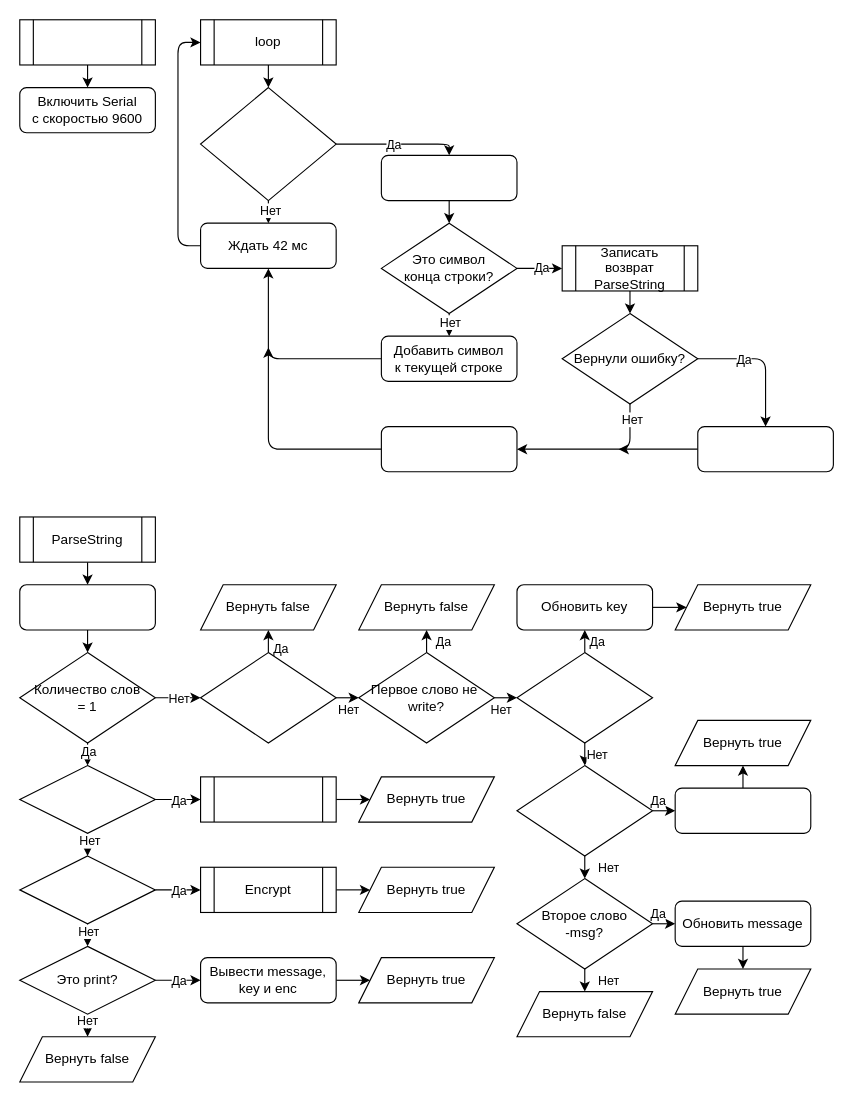
This 853x1102 diagram has some shape labels left out. The shapes that lost their labels are listed below. From the top down, each one's centre as x and y in pixels, then its label:
point 87,42: Setup
point 267,143: Если компьютер что-либо передал
point 448,177: Прочитать символ
point 448,448: Обнулить строку
point 765,448: Вернуть в serial строку и ошибку
point 87,607: Разбить строку на слова
point 267,697: Количество слов не 3?
point 584,697: Второе слово -key?
point 87,798: Это decrypt?
point 267,799: Decrypt
point 584,810: Второе слово -enc?
point 742,810: Обновить encrypted
point 87,889: Это encrypt?
